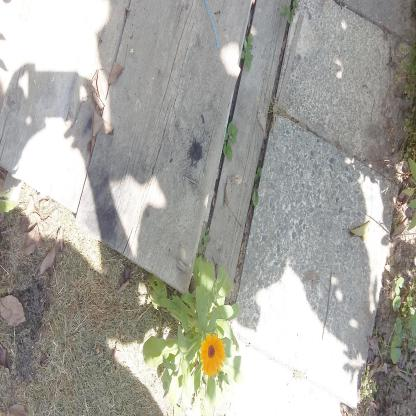marigold: (200, 332, 226, 378)
